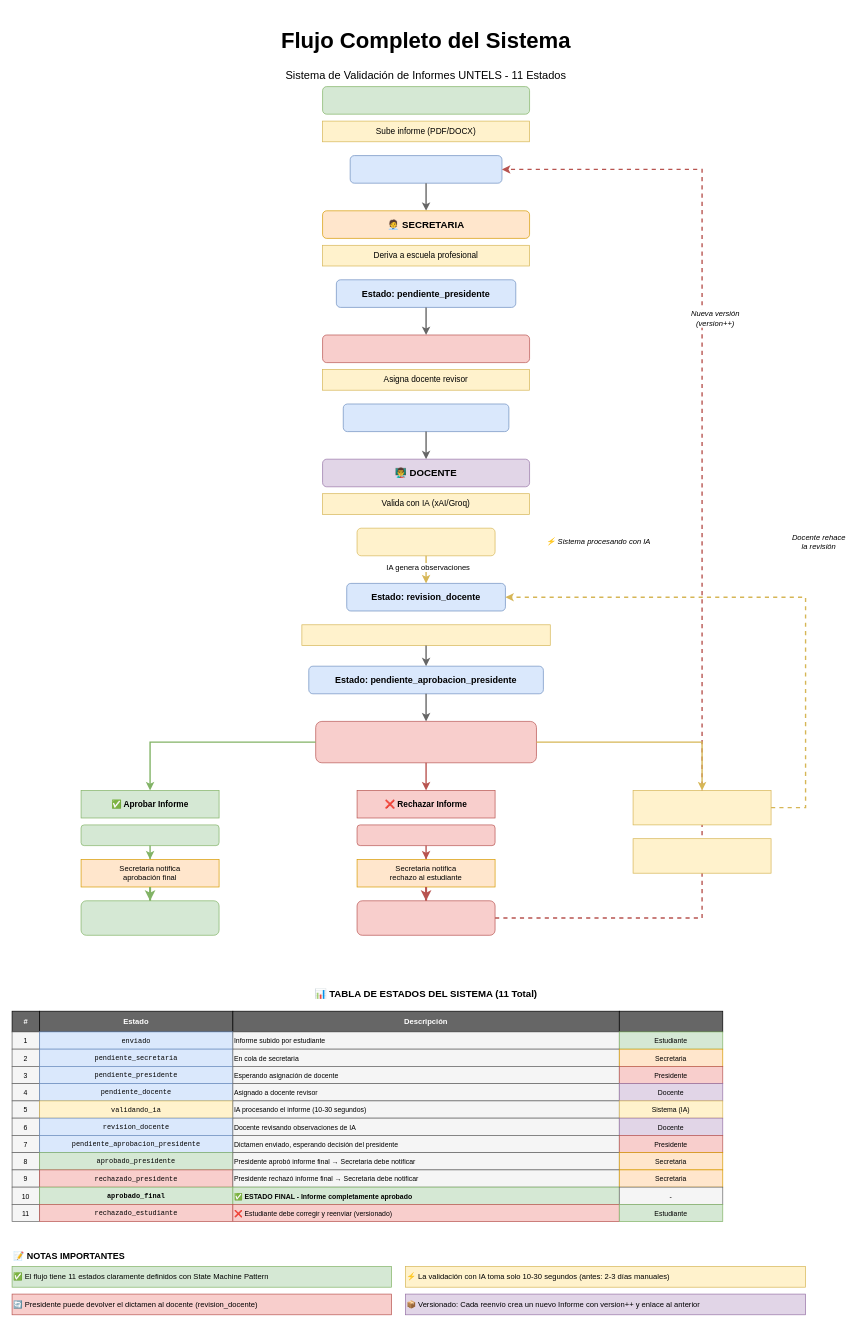
Some shapes in this 857 by 1327 pixel diagram are drawn without their labels. The box of each missing label's shape, as (x1, y1, x2, y2) in pixels:
Docente confirma observaciones y envía dictamen: (301, 624, 550, 645)
Estado: aprobado_presidente: (80, 824, 219, 846)
Estado: enviado: (349, 155, 502, 183)
Estado: pendiente_docente: (343, 403, 509, 432)
Estado: rechazado_presidente: (356, 824, 495, 846)
Estado: validando_ia: (356, 528, 495, 556)
PRESIDENTE REVISA DICTAMEN 3 Decisiones Posibles:: (315, 721, 536, 763)
Responsable: (619, 1011, 723, 1032)
Vuelve a revision_docente (con comentario del presidente): (632, 838, 771, 873)
✅ Estado: aprobado_final [FIN]: (80, 900, 219, 935)
❌ Estado: rechazado_estudiante (puede reenviar): (356, 900, 495, 935)
👔 PRESIDENTE: (322, 334, 530, 363)
👨‍🎓 ESTUDIANTE: (322, 86, 530, 114)
🔄 Devolver Dictamen al Docente: (632, 790, 771, 825)
